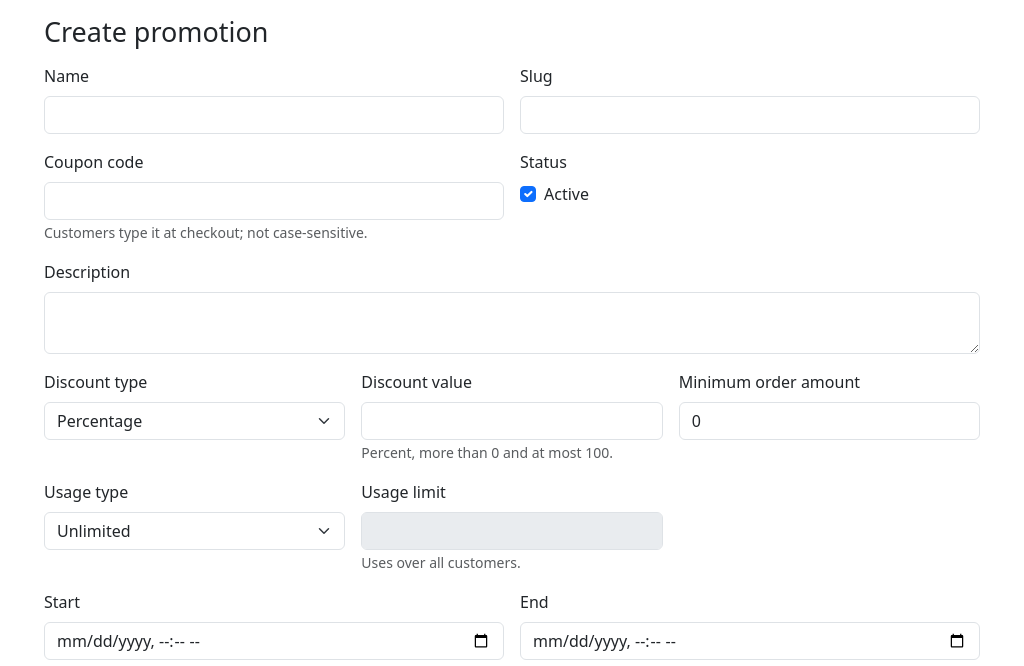
Promotion form › shows the server error
The width and height of the screenshot is (1024, 666).
Type "Samsung week" into the field labelled "Name".
click(274, 115); type("Samsung week")  # box [44,96,504,134]
Type "SAVE10" into the field labelled "Coupon code".
click(274, 201); type("SAVE10")  # box [44,182,504,220]
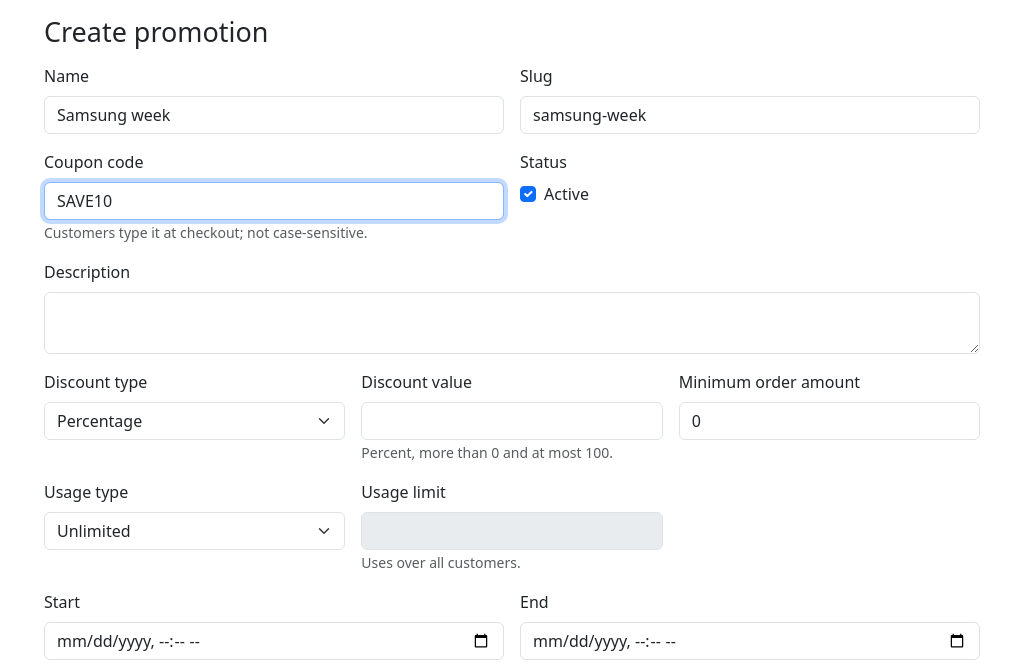
Type "10" into the field labelled "Discount value".
click(512, 421); type("10")  # box [361,402,663,440]
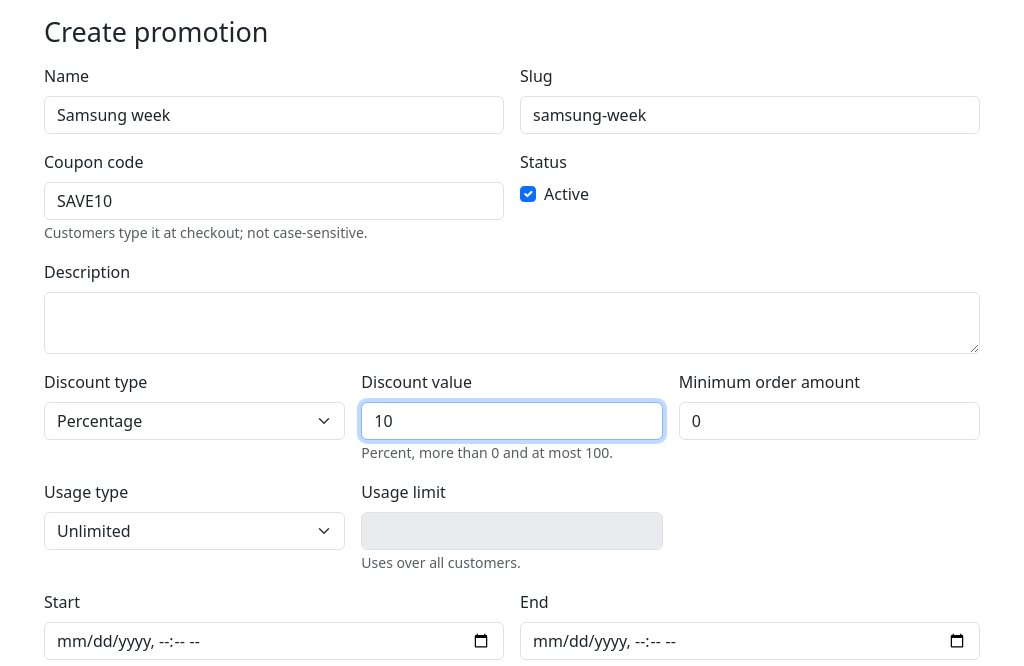
Type "2026-11-20T09:00" into the field labelled "Start".
click(274, 641); type("2026-11-20T09:00")  # box [44,622,504,660]
Type "2026-12-20T09:00" into the field labelled "End".
click(750, 641); type("2026-12-20T09:00")  # box [520,622,980,660]
(page scrolled)
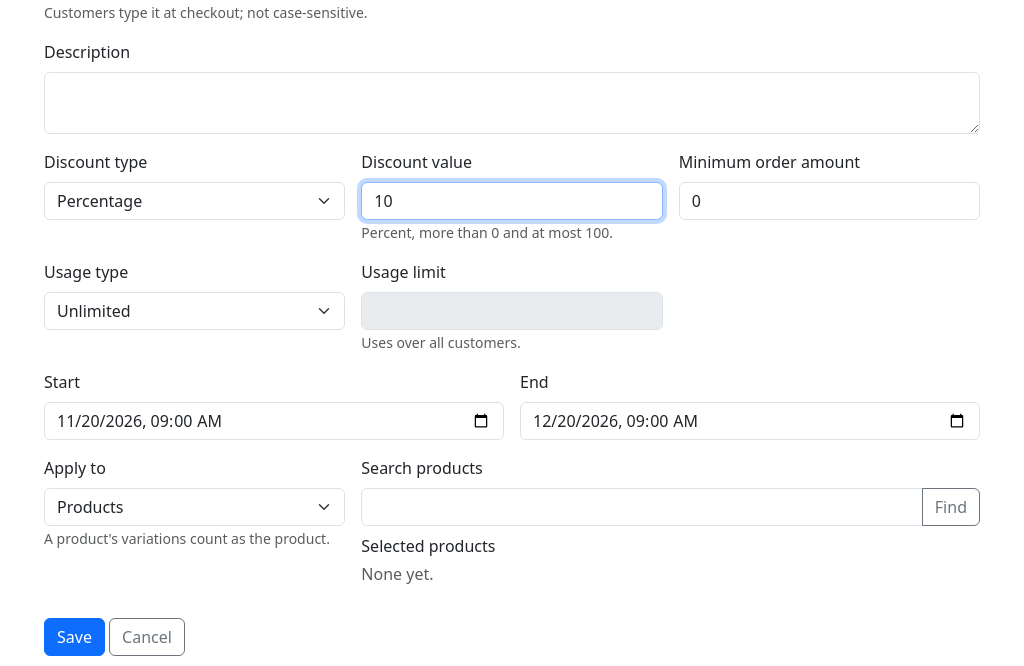
Select "Categories" in the dropdown labelled "Apply to" at (195, 507), box [44,488,345,526]
(page scrolled)
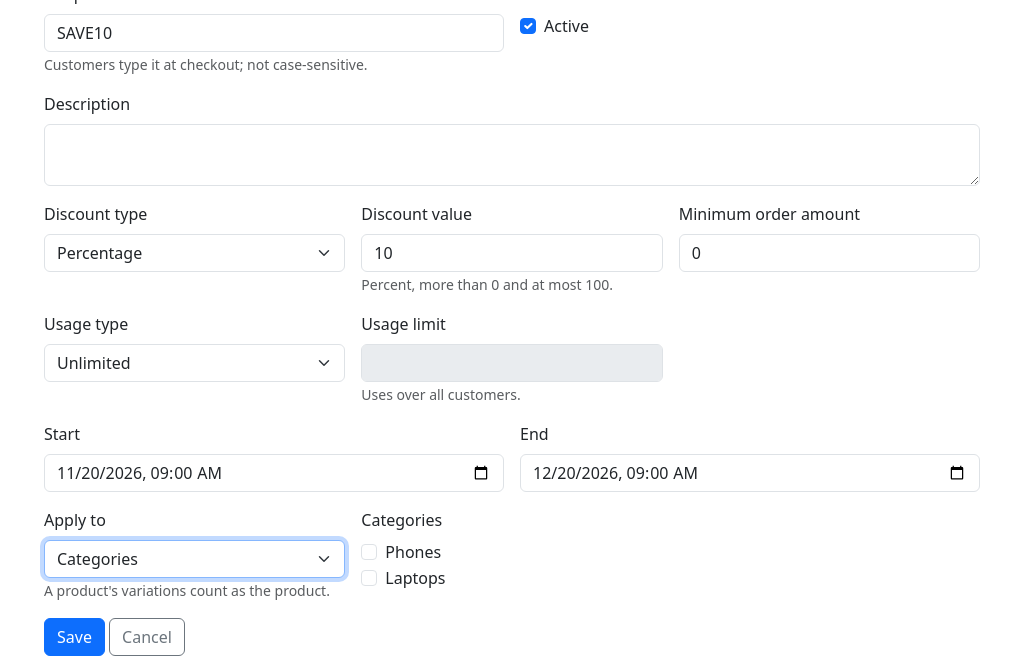
Click the checkbox labelled "Phones".
click(369, 552)  # box [361,544,377,560]
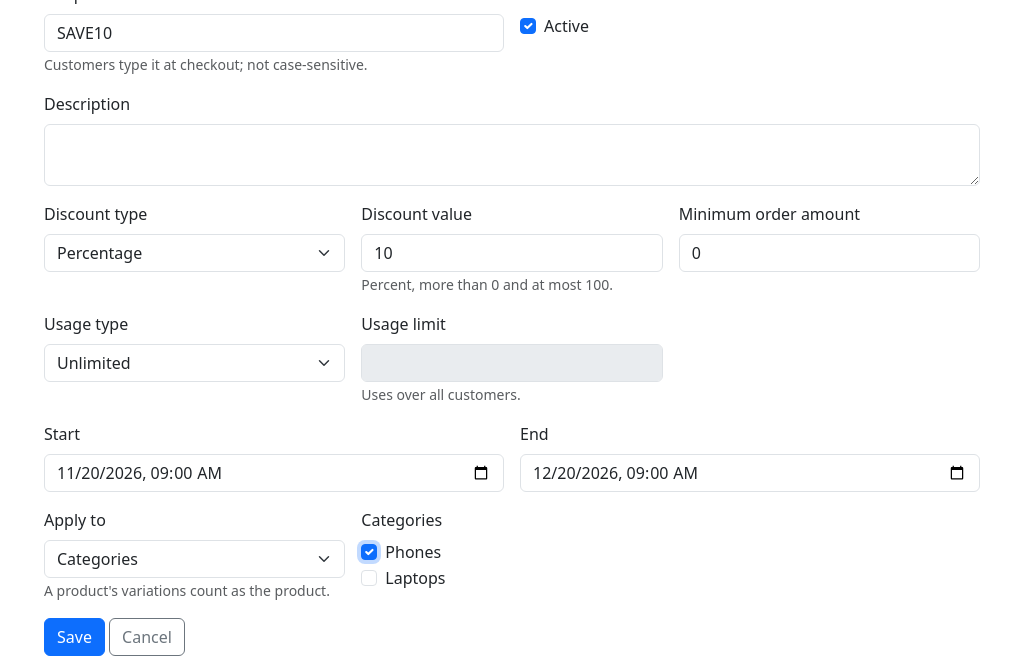
Click the button "Save".
click(74, 637)  # box [44,618,105,656]
(page scrolled)
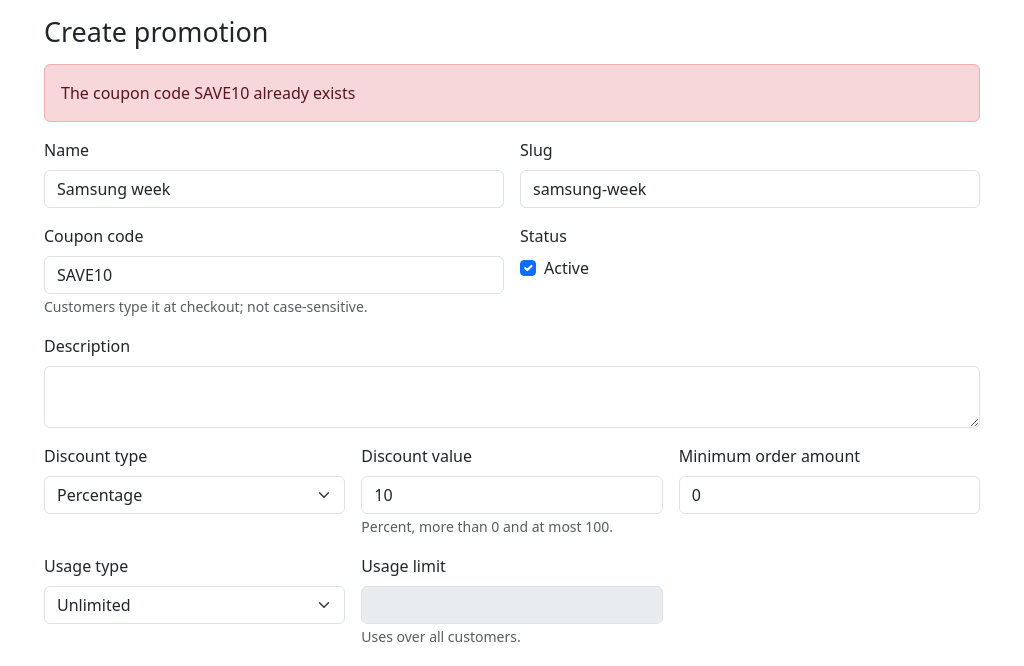
expect the message reads "The coupon code SAVE10 already exists": met, box [61,82,356,104]
